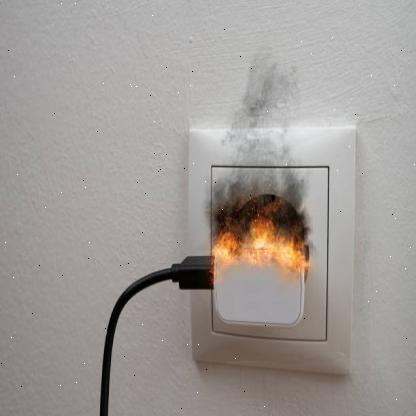fire: (216, 224, 307, 281)
smoke: (203, 40, 320, 234)
